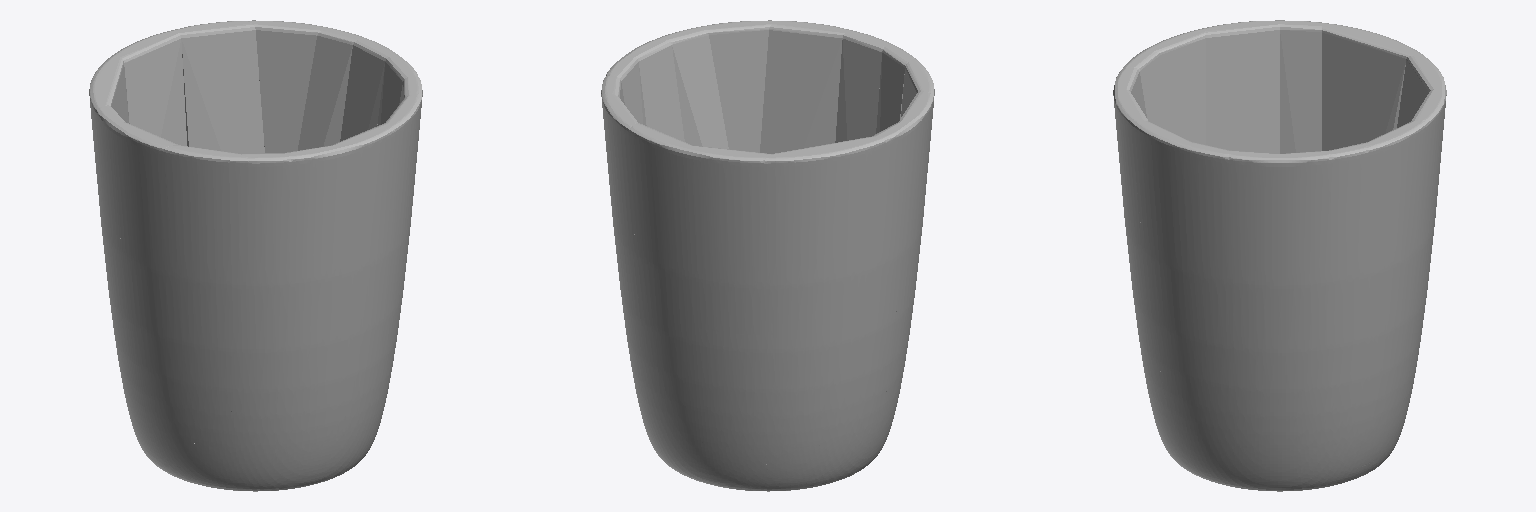
The robot description file, URDF, robot "root":
<robot name="root">
  <link name="object">
    <visual>
      <origin xyz="0 0 0" rpy="0 0 0"/>
      <geometry>
        <mesh filename="coacd_convex_piece_0.obj" scale="1.0000E+00 1.0000E+00 1.0000E+00"/>
      </geometry>
      <material name="">
        <color rgba="7.50E-01 7.50E-01 7.50E-01 1"/>
      </material>
    </visual>
    <collision>
      <origin xyz="0 0 0" rpy="0 0 0"/>
      <geometry>
        <mesh filename="coacd_convex_piece_0.obj" scale="1.0000E+00 1.0000E+00 1.0000E+00"/>
      </geometry>
    </collision>
    <visual>
      <origin xyz="0 0 0" rpy="0 0 0"/>
      <geometry>
        <mesh filename="coacd_convex_piece_1.obj" scale="1.0000E+00 1.0000E+00 1.0000E+00"/>
      </geometry>
      <material name="">
        <color rgba="7.50E-01 7.50E-01 7.50E-01 1"/>
      </material>
    </visual>
    <collision>
      <origin xyz="0 0 0" rpy="0 0 0"/>
      <geometry>
        <mesh filename="coacd_convex_piece_1.obj" scale="1.0000E+00 1.0000E+00 1.0000E+00"/>
      </geometry>
    </collision>
    <visual>
      <origin xyz="0 0 0" rpy="0 0 0"/>
      <geometry>
        <mesh filename="coacd_convex_piece_2.obj" scale="1.0000E+00 1.0000E+00 1.0000E+00"/>
      </geometry>
      <material name="">
        <color rgba="7.50E-01 7.50E-01 7.50E-01 1"/>
      </material>
    </visual>
    <collision>
      <origin xyz="0 0 0" rpy="0 0 0"/>
      <geometry>
        <mesh filename="coacd_convex_piece_2.obj" scale="1.0000E+00 1.0000E+00 1.0000E+00"/>
      </geometry>
    </collision>
    <visual>
      <origin xyz="0 0 0" rpy="0 0 0"/>
      <geometry>
        <mesh filename="coacd_convex_piece_3.obj" scale="1.0000E+00 1.0000E+00 1.0000E+00"/>
      </geometry>
      <material name="">
        <color rgba="7.50E-01 7.50E-01 7.50E-01 1"/>
      </material>
    </visual>
    <collision>
      <origin xyz="0 0 0" rpy="0 0 0"/>
      <geometry>
        <mesh filename="coacd_convex_piece_3.obj" scale="1.0000E+00 1.0000E+00 1.0000E+00"/>
      </geometry>
    </collision>
    <visual>
      <origin xyz="0 0 0" rpy="0 0 0"/>
      <geometry>
        <mesh filename="coacd_convex_piece_4.obj" scale="1.0000E+00 1.0000E+00 1.0000E+00"/>
      </geometry>
      <material name="">
        <color rgba="7.50E-01 7.50E-01 7.50E-01 1"/>
      </material>
    </visual>
    <collision>
      <origin xyz="0 0 0" rpy="0 0 0"/>
      <geometry>
        <mesh filename="coacd_convex_piece_4.obj" scale="1.0000E+00 1.0000E+00 1.0000E+00"/>
      </geometry>
    </collision>
    <visual>
      <origin xyz="0 0 0" rpy="0 0 0"/>
      <geometry>
        <mesh filename="coacd_convex_piece_5.obj" scale="1.0000E+00 1.0000E+00 1.0000E+00"/>
      </geometry>
      <material name="">
        <color rgba="7.50E-01 7.50E-01 7.50E-01 1"/>
      </material>
    </visual>
    <collision>
      <origin xyz="0 0 0" rpy="0 0 0"/>
      <geometry>
        <mesh filename="coacd_convex_piece_5.obj" scale="1.0000E+00 1.0000E+00 1.0000E+00"/>
      </geometry>
    </collision>
    <visual>
      <origin xyz="0 0 0" rpy="0 0 0"/>
      <geometry>
        <mesh filename="coacd_convex_piece_6.obj" scale="1.0000E+00 1.0000E+00 1.0000E+00"/>
      </geometry>
      <material name="">
        <color rgba="7.50E-01 7.50E-01 7.50E-01 1"/>
      </material>
    </visual>
    <collision>
      <origin xyz="0 0 0" rpy="0 0 0"/>
      <geometry>
        <mesh filename="coacd_convex_piece_6.obj" scale="1.0000E+00 1.0000E+00 1.0000E+00"/>
      </geometry>
    </collision>
    <visual>
      <origin xyz="0 0 0" rpy="0 0 0"/>
      <geometry>
        <mesh filename="coacd_convex_piece_7.obj" scale="1.0000E+00 1.0000E+00 1.0000E+00"/>
      </geometry>
      <material name="">
        <color rgba="7.50E-01 7.50E-01 7.50E-01 1"/>
      </material>
    </visual>
    <collision>
      <origin xyz="0 0 0" rpy="0 0 0"/>
      <geometry>
        <mesh filename="coacd_convex_piece_7.obj" scale="1.0000E+00 1.0000E+00 1.0000E+00"/>
      </geometry>
    </collision>
    <visual>
      <origin xyz="0 0 0" rpy="0 0 0"/>
      <geometry>
        <mesh filename="coacd_convex_piece_8.obj" scale="1.0000E+00 1.0000E+00 1.0000E+00"/>
      </geometry>
      <material name="">
        <color rgba="7.50E-01 7.50E-01 7.50E-01 1"/>
      </material>
    </visual>
    <collision>
      <origin xyz="0 0 0" rpy="0 0 0"/>
      <geometry>
        <mesh filename="coacd_convex_piece_8.obj" scale="1.0000E+00 1.0000E+00 1.0000E+00"/>
      </geometry>
    </collision>
    <visual>
      <origin xyz="0 0 0" rpy="0 0 0"/>
      <geometry>
        <mesh filename="coacd_convex_piece_9.obj" scale="1.0000E+00 1.0000E+00 1.0000E+00"/>
      </geometry>
      <material name="">
        <color rgba="7.50E-01 7.50E-01 7.50E-01 1"/>
      </material>
    </visual>
    <collision>
      <origin xyz="0 0 0" rpy="0 0 0"/>
      <geometry>
        <mesh filename="coacd_convex_piece_9.obj" scale="1.0000E+00 1.0000E+00 1.0000E+00"/>
      </geometry>
    </collision>
    <visual>
      <origin xyz="0 0 0" rpy="0 0 0"/>
      <geometry>
        <mesh filename="coacd_convex_piece_10.obj" scale="1.0000E+00 1.0000E+00 1.0000E+00"/>
      </geometry>
      <material name="">
        <color rgba="7.50E-01 7.50E-01 7.50E-01 1"/>
      </material>
    </visual>
    <collision>
      <origin xyz="0 0 0" rpy="0 0 0"/>
      <geometry>
        <mesh filename="coacd_convex_piece_10.obj" scale="1.0000E+00 1.0000E+00 1.0000E+00"/>
      </geometry>
    </collision>
    <visual>
      <origin xyz="0 0 0" rpy="0 0 0"/>
      <geometry>
        <mesh filename="coacd_convex_piece_11.obj" scale="1.0000E+00 1.0000E+00 1.0000E+00"/>
      </geometry>
      <material name="">
        <color rgba="7.50E-01 7.50E-01 7.50E-01 1"/>
      </material>
    </visual>
    <collision>
      <origin xyz="0 0 0" rpy="0 0 0"/>
      <geometry>
        <mesh filename="coacd_convex_piece_11.obj" scale="1.0000E+00 1.0000E+00 1.0000E+00"/>
      </geometry>
    </collision>
    <visual>
      <origin xyz="0 0 0" rpy="0 0 0"/>
      <geometry>
        <mesh filename="coacd_convex_piece_12.obj" scale="1.0000E+00 1.0000E+00 1.0000E+00"/>
      </geometry>
      <material name="">
        <color rgba="7.50E-01 7.50E-01 7.50E-01 1"/>
      </material>
    </visual>
    <collision>
      <origin xyz="0 0 0" rpy="0 0 0"/>
      <geometry>
        <mesh filename="coacd_convex_piece_12.obj" scale="1.0000E+00 1.0000E+00 1.0000E+00"/>
      </geometry>
    </collision>
    <visual>
      <origin xyz="0 0 0" rpy="0 0 0"/>
      <geometry>
        <mesh filename="coacd_convex_piece_13.obj" scale="1.0000E+00 1.0000E+00 1.0000E+00"/>
      </geometry>
      <material name="">
        <color rgba="7.50E-01 7.50E-01 7.50E-01 1"/>
      </material>
    </visual>
    <collision>
      <origin xyz="0 0 0" rpy="0 0 0"/>
      <geometry>
        <mesh filename="coacd_convex_piece_13.obj" scale="1.0000E+00 1.0000E+00 1.0000E+00"/>
      </geometry>
    </collision>
    <visual>
      <origin xyz="0 0 0" rpy="0 0 0"/>
      <geometry>
        <mesh filename="coacd_convex_piece_14.obj" scale="1.0000E+00 1.0000E+00 1.0000E+00"/>
      </geometry>
      <material name="">
        <color rgba="7.50E-01 7.50E-01 7.50E-01 1"/>
      </material>
    </visual>
    <collision>
      <origin xyz="0 0 0" rpy="0 0 0"/>
      <geometry>
        <mesh filename="coacd_convex_piece_14.obj" scale="1.0000E+00 1.0000E+00 1.0000E+00"/>
      </geometry>
    </collision>
    <visual>
      <origin xyz="0 0 0" rpy="0 0 0"/>
      <geometry>
        <mesh filename="coacd_convex_piece_15.obj" scale="1.0000E+00 1.0000E+00 1.0000E+00"/>
      </geometry>
      <material name="">
        <color rgba="7.50E-01 7.50E-01 7.50E-01 1"/>
      </material>
    </visual>
    <collision>
      <origin xyz="0 0 0" rpy="0 0 0"/>
      <geometry>
        <mesh filename="coacd_convex_piece_15.obj" scale="1.0000E+00 1.0000E+00 1.0000E+00"/>
      </geometry>
    </collision>
    <visual>
      <origin xyz="0 0 0" rpy="0 0 0"/>
      <geometry>
        <mesh filename="coacd_convex_piece_16.obj" scale="1.0000E+00 1.0000E+00 1.0000E+00"/>
      </geometry>
      <material name="">
        <color rgba="7.50E-01 7.50E-01 7.50E-01 1"/>
      </material>
    </visual>
    <collision>
      <origin xyz="0 0 0" rpy="0 0 0"/>
      <geometry>
        <mesh filename="coacd_convex_piece_16.obj" scale="1.0000E+00 1.0000E+00 1.0000E+00"/>
      </geometry>
    </collision>
    <visual>
      <origin xyz="0 0 0" rpy="0 0 0"/>
      <geometry>
        <mesh filename="coacd_convex_piece_17.obj" scale="1.0000E+00 1.0000E+00 1.0000E+00"/>
      </geometry>
      <material name="">
        <color rgba="7.50E-01 7.50E-01 7.50E-01 1"/>
      </material>
    </visual>
    <collision>
      <origin xyz="0 0 0" rpy="0 0 0"/>
      <geometry>
        <mesh filename="coacd_convex_piece_17.obj" scale="1.0000E+00 1.0000E+00 1.0000E+00"/>
      </geometry>
    </collision>
    <visual>
      <origin xyz="0 0 0" rpy="0 0 0"/>
      <geometry>
        <mesh filename="coacd_convex_piece_18.obj" scale="1.0000E+00 1.0000E+00 1.0000E+00"/>
      </geometry>
      <material name="">
        <color rgba="7.50E-01 7.50E-01 7.50E-01 1"/>
      </material>
    </visual>
    <collision>
      <origin xyz="0 0 0" rpy="0 0 0"/>
      <geometry>
        <mesh filename="coacd_convex_piece_18.obj" scale="1.0000E+00 1.0000E+00 1.0000E+00"/>
      </geometry>
    </collision>
    <visual>
      <origin xyz="0 0 0" rpy="0 0 0"/>
      <geometry>
        <mesh filename="coacd_convex_piece_19.obj" scale="1.0000E+00 1.0000E+00 1.0000E+00"/>
      </geometry>
      <material name="">
        <color rgba="7.50E-01 7.50E-01 7.50E-01 1"/>
      </material>
    </visual>
    <collision>
      <origin xyz="0 0 0" rpy="0 0 0"/>
      <geometry>
        <mesh filename="coacd_convex_piece_19.obj" scale="1.0000E+00 1.0000E+00 1.0000E+00"/>
      </geometry>
    </collision>
    <visual>
      <origin xyz="0 0 0" rpy="0 0 0"/>
      <geometry>
        <mesh filename="coacd_convex_piece_20.obj" scale="1.0000E+00 1.0000E+00 1.0000E+00"/>
      </geometry>
      <material name="">
        <color rgba="7.50E-01 7.50E-01 7.50E-01 1"/>
      </material>
    </visual>
    <collision>
      <origin xyz="0 0 0" rpy="0 0 0"/>
      <geometry>
        <mesh filename="coacd_convex_piece_20.obj" scale="1.0000E+00 1.0000E+00 1.0000E+00"/>
      </geometry>
    </collision>
    <visual>
      <origin xyz="0 0 0" rpy="0 0 0"/>
      <geometry>
        <mesh filename="coacd_convex_piece_21.obj" scale="1.0000E+00 1.0000E+00 1.0000E+00"/>
      </geometry>
      <material name="">
        <color rgba="7.50E-01 7.50E-01 7.50E-01 1"/>
      </material>
    </visual>
    <collision>
      <origin xyz="0 0 0" rpy="0 0 0"/>
      <geometry>
        <mesh filename="coacd_convex_piece_21.obj" scale="1.0000E+00 1.0000E+00 1.0000E+00"/>
      </geometry>
    </collision>
    <visual>
      <origin xyz="0 0 0" rpy="0 0 0"/>
      <geometry>
        <mesh filename="coacd_convex_piece_22.obj" scale="1.0000E+00 1.0000E+00 1.0000E+00"/>
      </geometry>
      <material name="">
        <color rgba="7.50E-01 7.50E-01 7.50E-01 1"/>
      </material>
    </visual>
    <collision>
      <origin xyz="0 0 0" rpy="0 0 0"/>
      <geometry>
        <mesh filename="coacd_convex_piece_22.obj" scale="1.0000E+00 1.0000E+00 1.0000E+00"/>
      </geometry>
    </collision>
    <visual>
      <origin xyz="0 0 0" rpy="0 0 0"/>
      <geometry>
        <mesh filename="coacd_convex_piece_23.obj" scale="1.0000E+00 1.0000E+00 1.0000E+00"/>
      </geometry>
      <material name="">
        <color rgba="7.50E-01 7.50E-01 7.50E-01 1"/>
      </material>
    </visual>
    <collision>
      <origin xyz="0 0 0" rpy="0 0 0"/>
      <geometry>
        <mesh filename="coacd_convex_piece_23.obj" scale="1.0000E+00 1.0000E+00 1.0000E+00"/>
      </geometry>
    </collision>
    <visual>
      <origin xyz="0 0 0" rpy="0 0 0"/>
      <geometry>
        <mesh filename="coacd_convex_piece_24.obj" scale="1.0000E+00 1.0000E+00 1.0000E+00"/>
      </geometry>
      <material name="">
        <color rgba="7.50E-01 7.50E-01 7.50E-01 1"/>
      </material>
    </visual>
    <collision>
      <origin xyz="0 0 0" rpy="0 0 0"/>
      <geometry>
        <mesh filename="coacd_convex_piece_24.obj" scale="1.0000E+00 1.0000E+00 1.0000E+00"/>
      </geometry>
    </collision>
    <visual>
      <origin xyz="0 0 0" rpy="0 0 0"/>
      <geometry>
        <mesh filename="coacd_convex_piece_25.obj" scale="1.0000E+00 1.0000E+00 1.0000E+00"/>
      </geometry>
      <material name="">
        <color rgba="7.50E-01 7.50E-01 7.50E-01 1"/>
      </material>
    </visual>
    <collision>
      <origin xyz="0 0 0" rpy="0 0 0"/>
      <geometry>
        <mesh filename="coacd_convex_piece_25.obj" scale="1.0000E+00 1.0000E+00 1.0000E+00"/>
      </geometry>
    </collision>
  </link>
</robot>

--- What the picture shows (computed from the rendered views, not written in the file) ---
The picture shows the robot from 3 angles, left to right: view 1: azimuth 30°, elevation 25°; view 2: azimuth 150°, elevation 25°; view 3: azimuth 270°, elevation 25°; orthographic projection.
Model root with 1 links and 0 joints (none), rooted at object, posed all joints at 0.
Visible links, largest first — view 1: object; view 2: object; view 3: object.
Boxes of the visible links, x1,y1,x2,y2 form: object: [89, 20, 422, 491]; object: [601, 20, 934, 491]; object: [1113, 20, 1446, 491].
Size in the robot's own frame: 0.0856 by 0.0856 by 0.1011 metres.
Meshes: 26 distinct files referenced, 26 mesh visuals loaded (26 OBJ).
